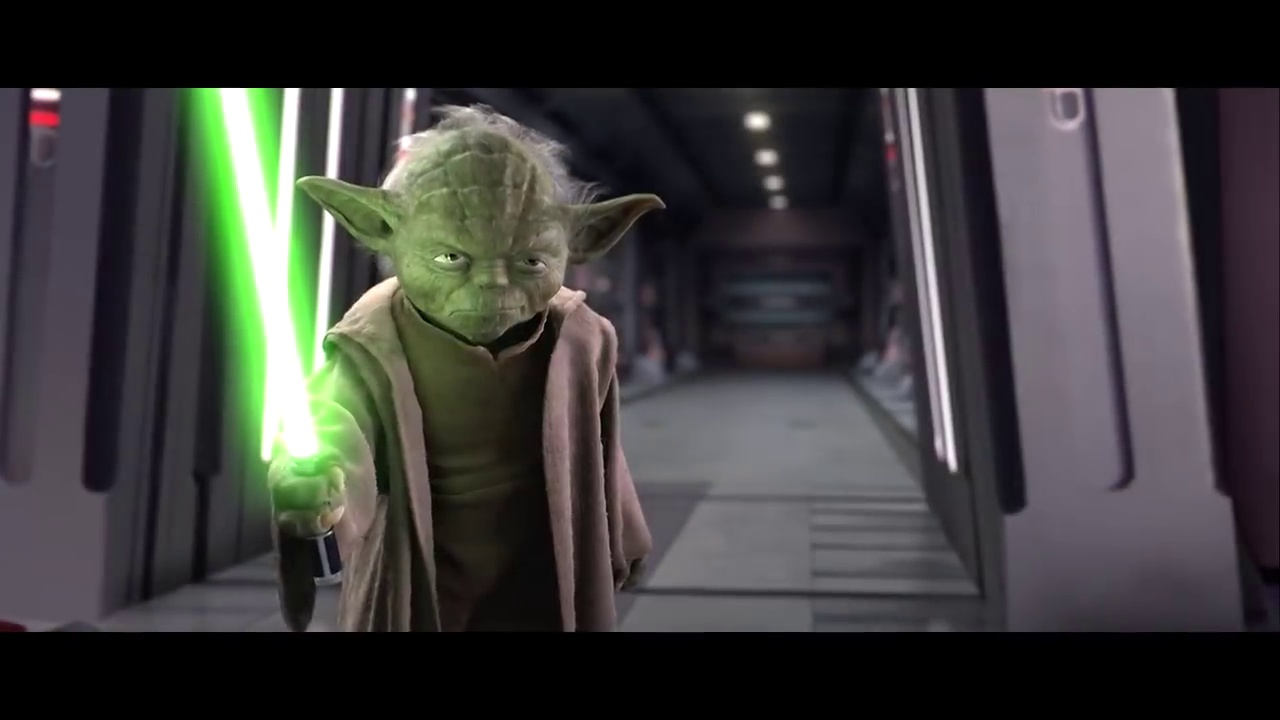lightsaber: (173, 82, 366, 576)
